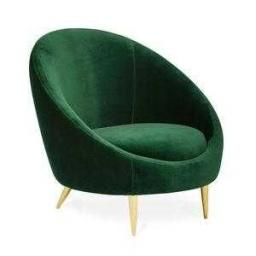Chair: (26, 28, 224, 237)
